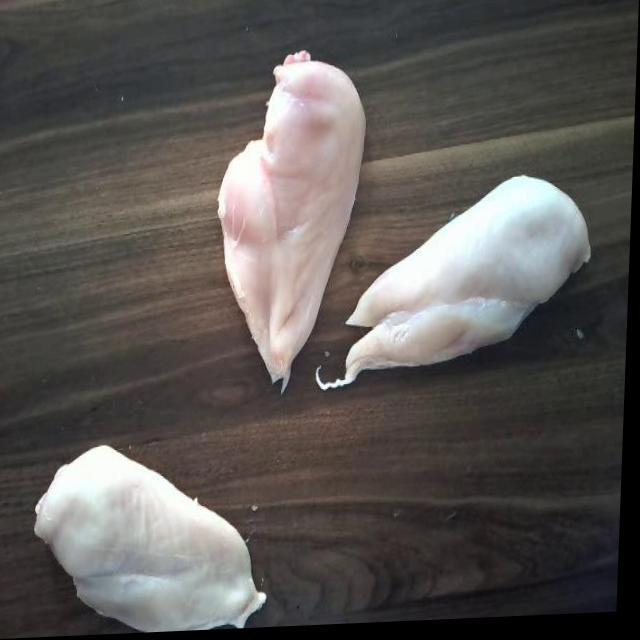breast: (210, 48, 359, 390), (345, 176, 586, 372), (38, 436, 271, 628)
